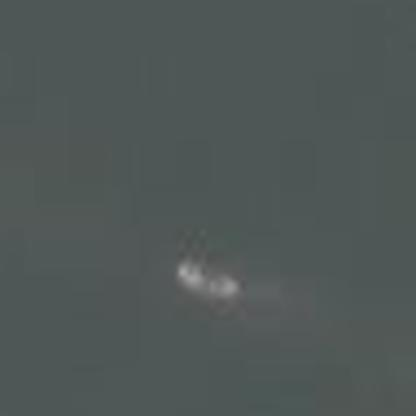ship: (166, 255, 250, 314)
